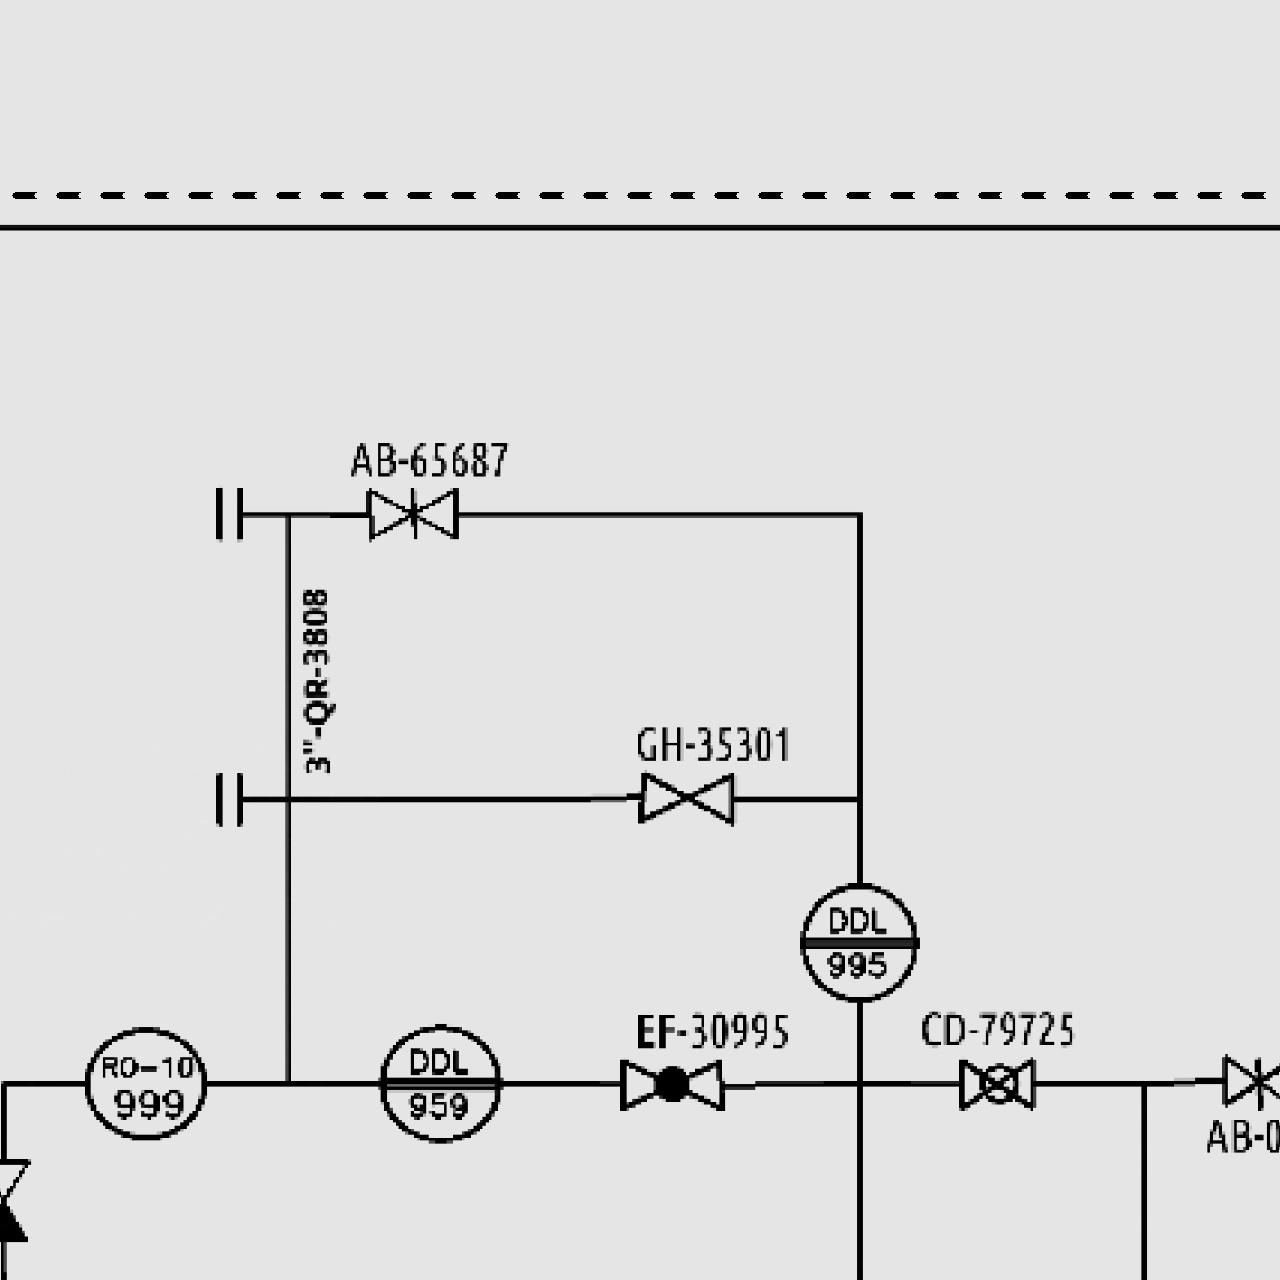Control-Panel: (374, 1017, 505, 1148), (80, 1017, 210, 1148), (795, 878, 922, 1005)
